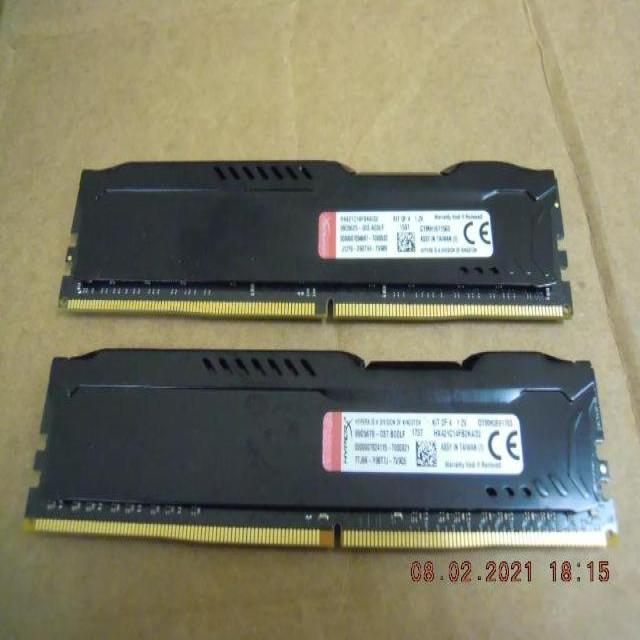RAM: (21, 347, 618, 550), (57, 160, 576, 323)
